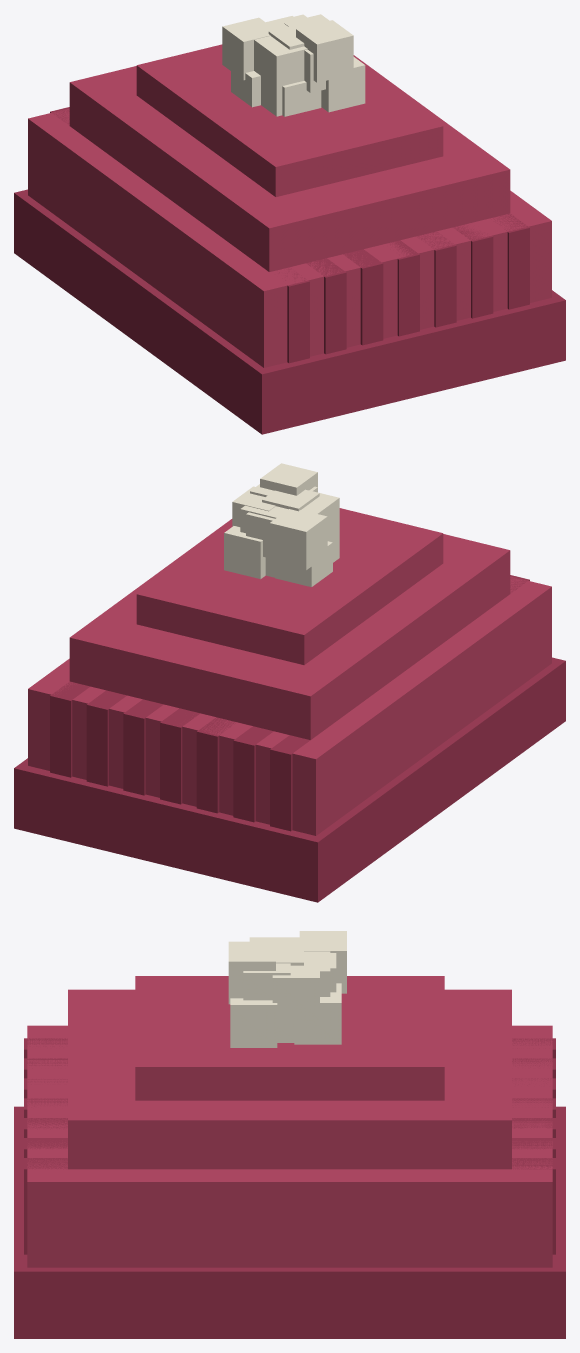
File: gorro_la_pompom.glb
3 views of the same model, one above another, from view 1: azimuth 30°, elevation 25°; view 2: azimuth 150°, elevation 25°; view 3: azimuth 270°, elevation 25° (orthographic). The views are drawn at different scales.
Visible parts, largest first — view 1: gorro_la_pompom; view 2: gorro_la_pompom; view 3: gorro_la_pompom.
Part boxes in pixels (<box>): gorro_la_pompom: <box>14,14,565,434</box>; gorro_la_pompom: <box>14,463,565,902</box>; gorro_la_pompom: <box>14,931,565,1338</box>.
Bounding box in the file's own units: 0.58 × 0.5154 × 0.82.
